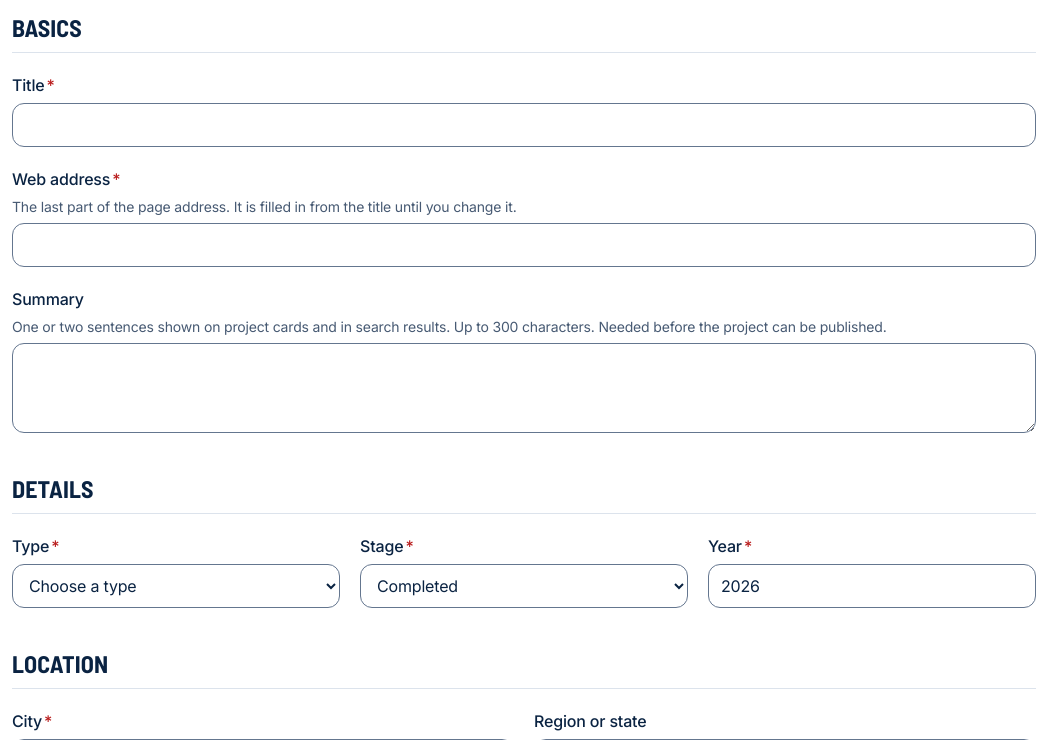
Test: ProjectForm › follows the title again if the web address is cleared
Step 1. Type "manual" into the field labelled "Web address*" → (524, 245), box x1=12 y1=223 x2=1036 y2=267
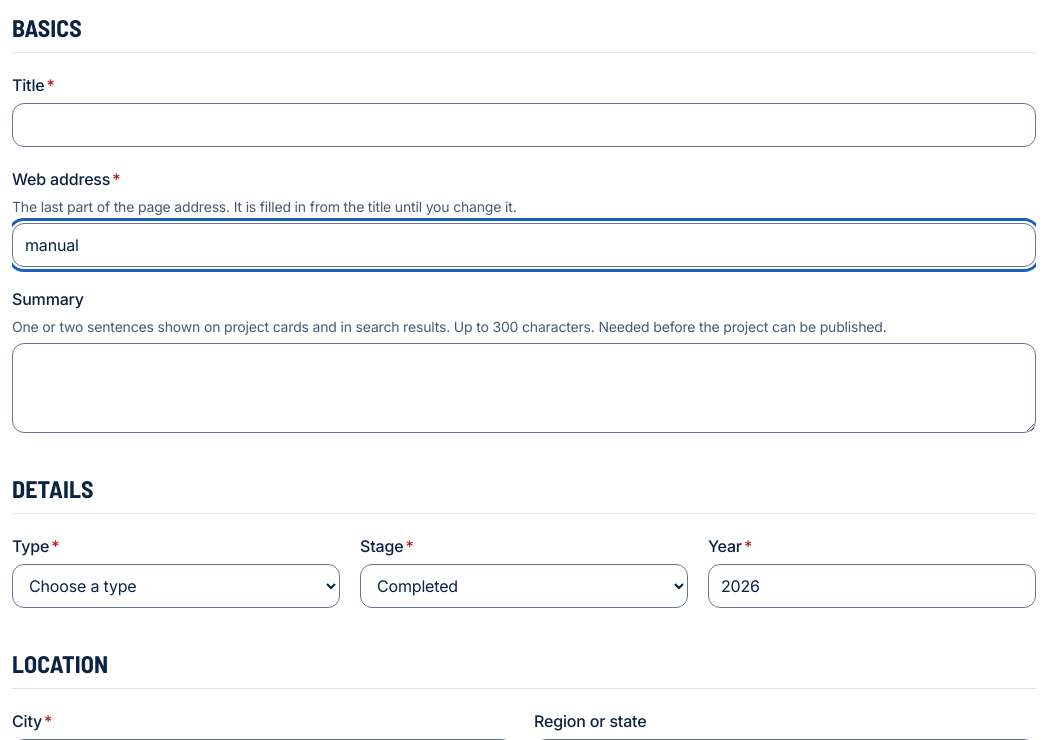
Step 2. Clear the field labelled "Web address*" → (524, 245), box x1=12 y1=223 x2=1036 y2=267
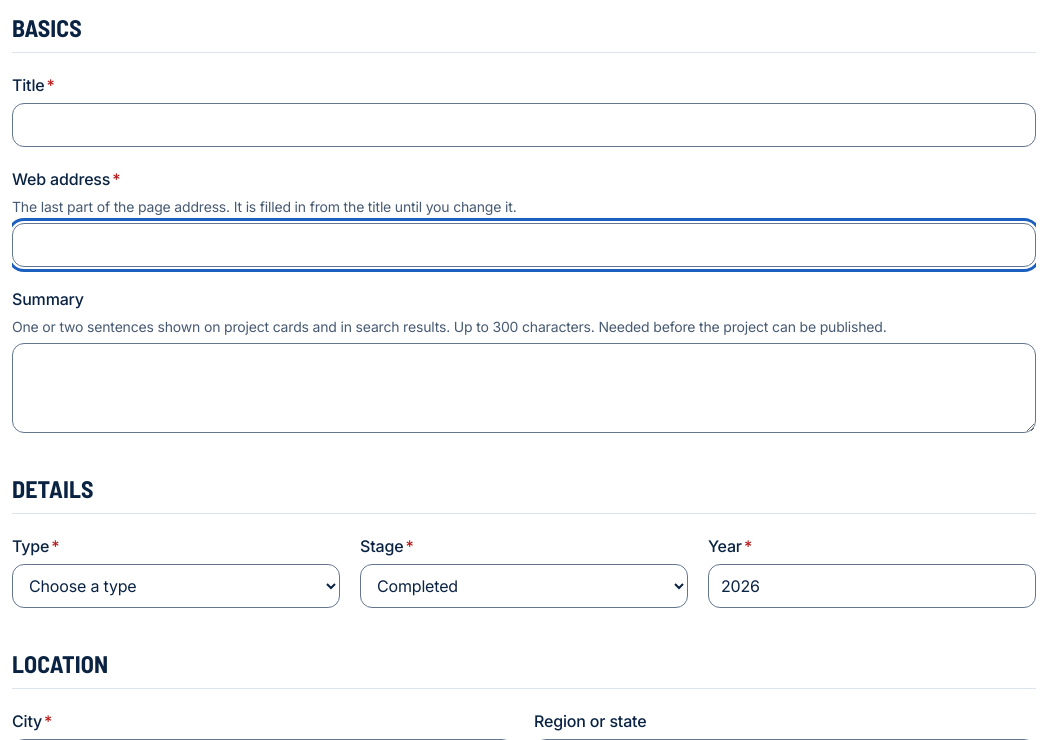
Step 3. Type "Fresh Start" into the field labelled "Title*" → (524, 125), box x1=12 y1=103 x2=1036 y2=147
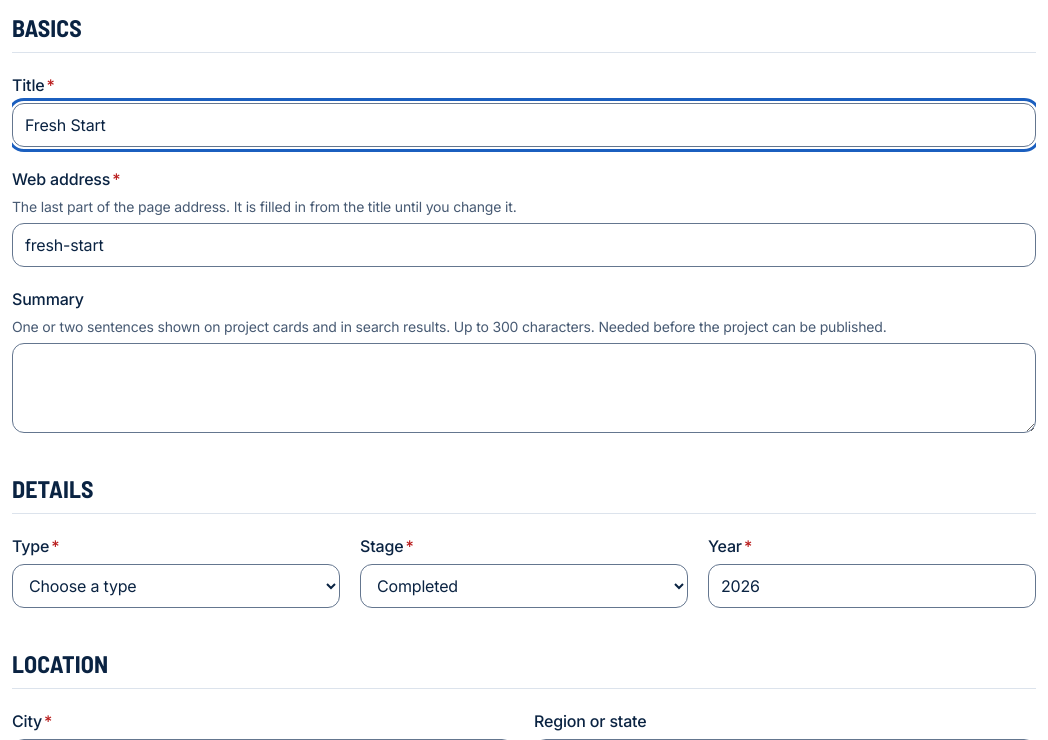
Now the field labelled "Web address*" holds "fresh-start", box x1=12 y1=223 x2=1036 y2=267
